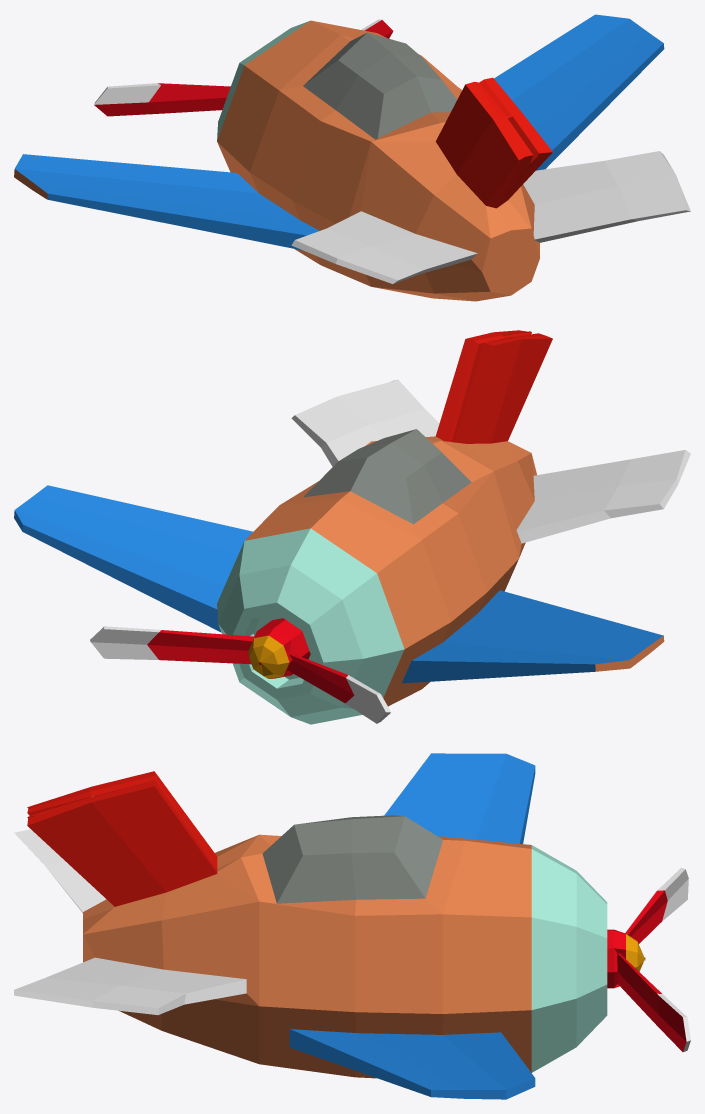
3 views of the same model, one above another, from view 1: azimuth 30°, elevation 25°; view 2: azimuth 150°, elevation 25°; view 3: azimuth 270°, elevation 25° (orthographic). The views are drawn at different scales.
Visible parts, largest first — view 1: Cylinder.001, Cylinder.002; view 2: Cylinder.001, Cylinder.002; view 3: Cylinder.001, Cylinder.002.
Part boxes in pixels (x1,y1,x2,y2): Cylinder.001: (14, 14, 690, 301); Cylinder.002: (94, 19, 393, 116); Cylinder.001: (14, 330, 690, 724); Cylinder.002: (90, 618, 391, 723); Cylinder.001: (14, 753, 607, 1099); Cylinder.002: (607, 868, 690, 1052).
Bounding box in the file's own units: 7.12 × 2.94 × 6.04.
